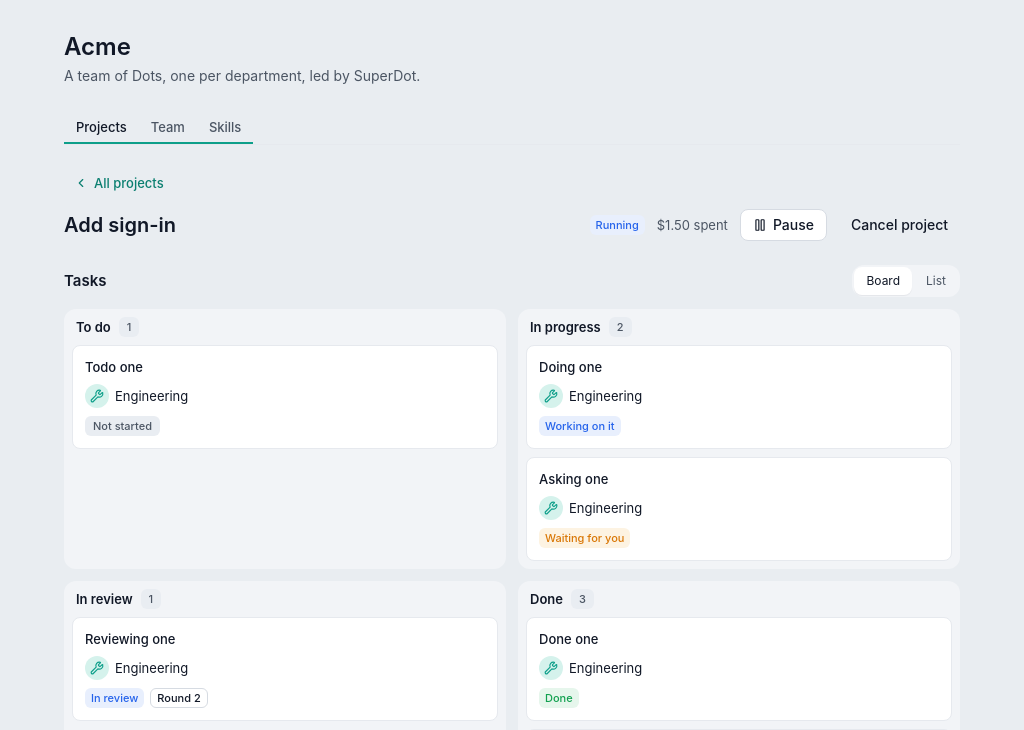
board › toggles to a simple list
This screenshot has width=1024, height=730.
What coordinates should you click on to do the following:
click the radio button labelled "List"
I would click on:
 (936, 281)
Its box is [914, 267, 958, 295].
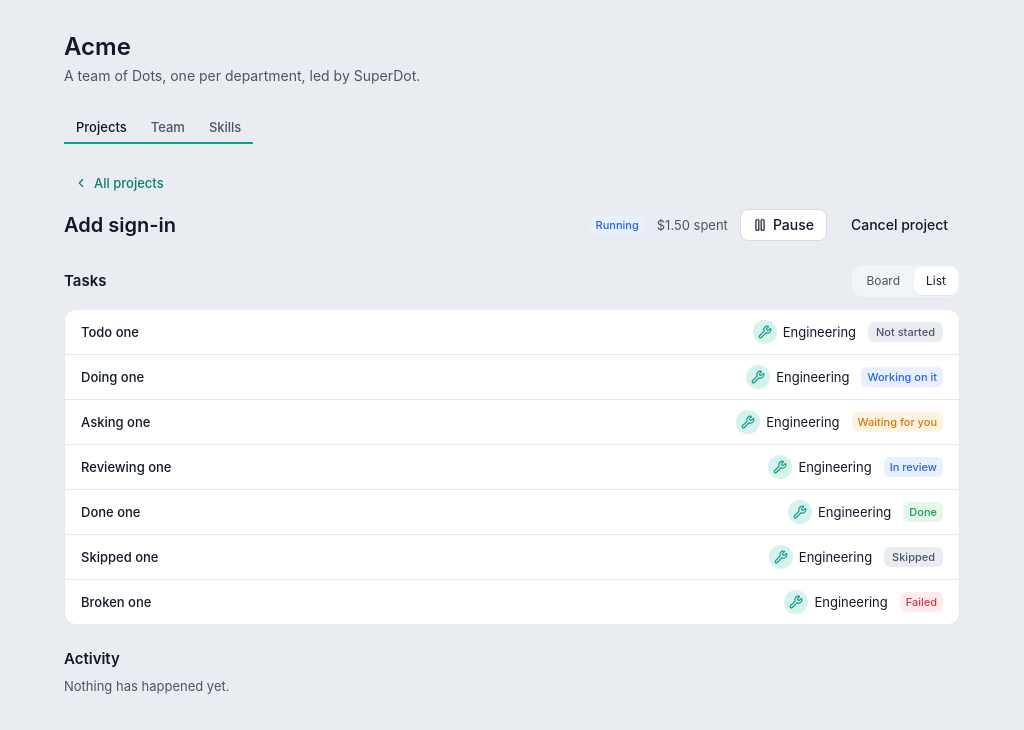
Check: the text "Todo one" is shown, box [81, 324, 139, 340]
Check: the list with test id "task-list" is shown, box [64, 309, 960, 625]
